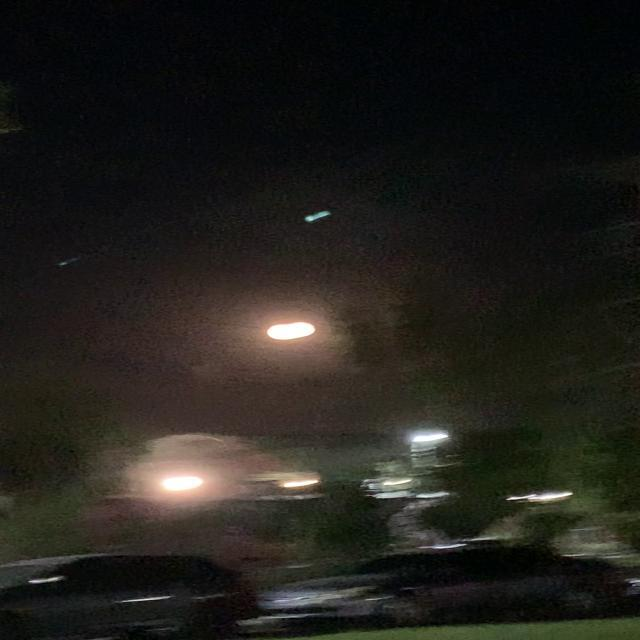moon: (267, 317, 320, 343)
